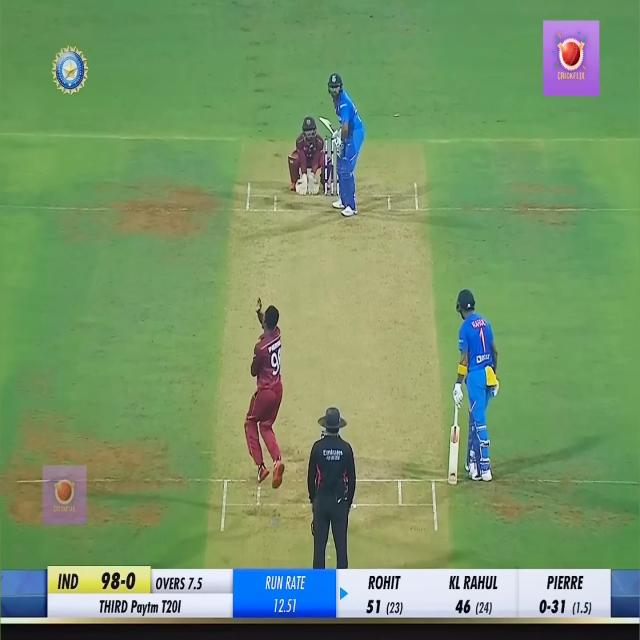fully_visible: (129, 593, 159, 624)
